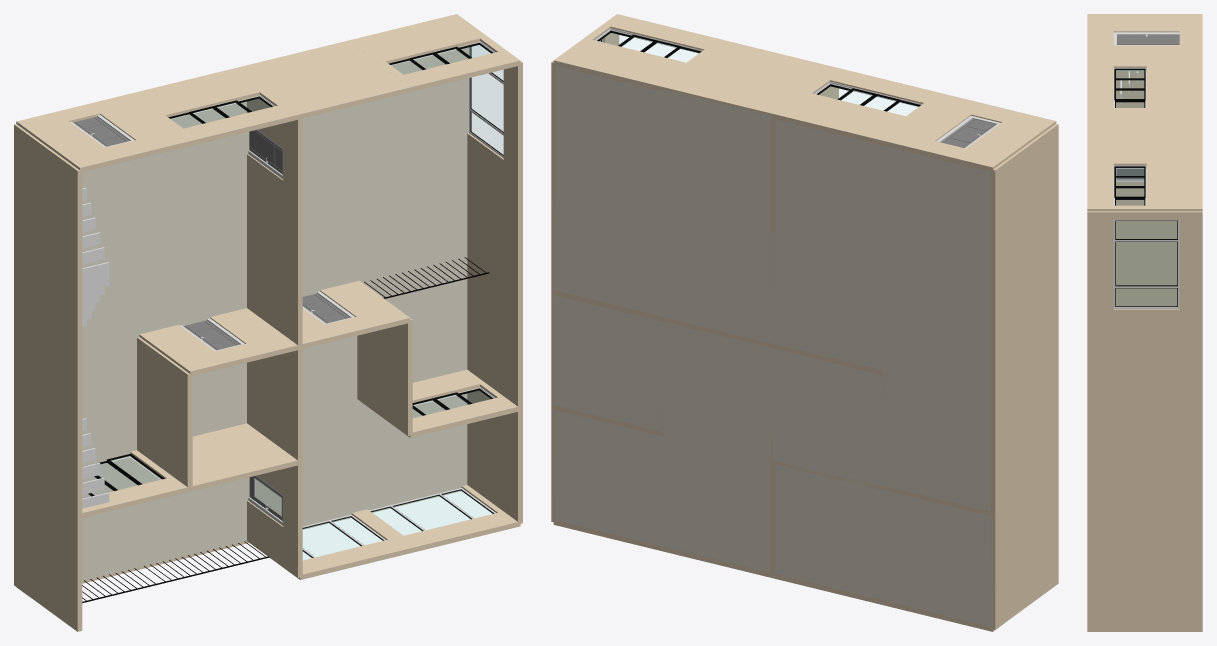
File: 4_nienzhen_ceilingless.gltf
The picture shows the model from 3 angles, left to right: view 1: azimuth 30°, elevation 25°; view 2: azimuth 150°, elevation 25°; view 3: azimuth 270°, elevation 25°; orthographic projection. The views are drawn at different scales.
Parts seen in each view (by area): view 1: floor_10, floor_5, floor_14, SIP_10, SIP_11, SIP_12, wall, floor_9, floor_7, floor_13, wall_2, floor_15 (+41 smaller); view 2: floor_11, floor_12, floor_2, floor_8, floor_5, floor_4, floor_10, floor_1, floor_15, floor_7, floor_6, floor_9 (+15 smaller); view 3: wall_8, wall_1, wall_9, SIP_2, wall_2, wall_3, SIP_9, SIP_3, Glass_1, SIP_7, WindowFrame_1, SIP_10 (+10 smaller).
Part boxes in pixels (bbox=[...]): floor_10: bbox=[359, 141, 467, 282]; floor_5: bbox=[139, 195, 246, 334]; floor_14: bbox=[359, 393, 467, 510]; SIP_10: bbox=[14, 124, 82, 285]; SIP_11: bbox=[14, 240, 82, 401]; SIP_12: bbox=[14, 355, 82, 516]; wall: bbox=[14, 470, 82, 631]; floor_9: bbox=[359, 47, 468, 167]; floor_7: bbox=[139, 101, 249, 221]; floor_13: bbox=[362, 257, 467, 382]; wall_2: bbox=[237, 41, 410, 118]; floor_15: bbox=[249, 399, 359, 526]; floor_11: bbox=[663, 204, 773, 343]; floor_12: bbox=[663, 322, 773, 460]; floor_2: bbox=[883, 258, 990, 398]; floor_8: bbox=[663, 90, 770, 230]; floor_5: bbox=[773, 231, 882, 370]; floor_4: bbox=[773, 348, 882, 487]; floor_10: bbox=[553, 178, 663, 316]; floor_1: bbox=[883, 373, 990, 511]; floor_15: bbox=[663, 434, 770, 572]; floor_7: bbox=[775, 119, 882, 257]; floor_6: bbox=[883, 145, 990, 283]; floor_9: bbox=[556, 66, 663, 204]; wall_8: bbox=[1087, 421, 1202, 526]; wall_1: bbox=[1087, 526, 1202, 630]; wall_9: bbox=[1087, 317, 1202, 421]; SIP_2: bbox=[1087, 211, 1202, 316]; wall_2: bbox=[1087, 111, 1202, 160]; wall_3: bbox=[1116, 221, 1177, 306]; SIP_9: bbox=[1087, 14, 1202, 62]; SIP_3: bbox=[1087, 160, 1202, 211]; Glass_1: bbox=[1116, 221, 1176, 305]; SIP_7: bbox=[1087, 62, 1202, 111]; WindowFrame_1: bbox=[1113, 220, 1179, 308]; SIP_10: bbox=[1116, 71, 1144, 107].
Size of the model in its own units: 14.15 by 14.15 by 3.5.
